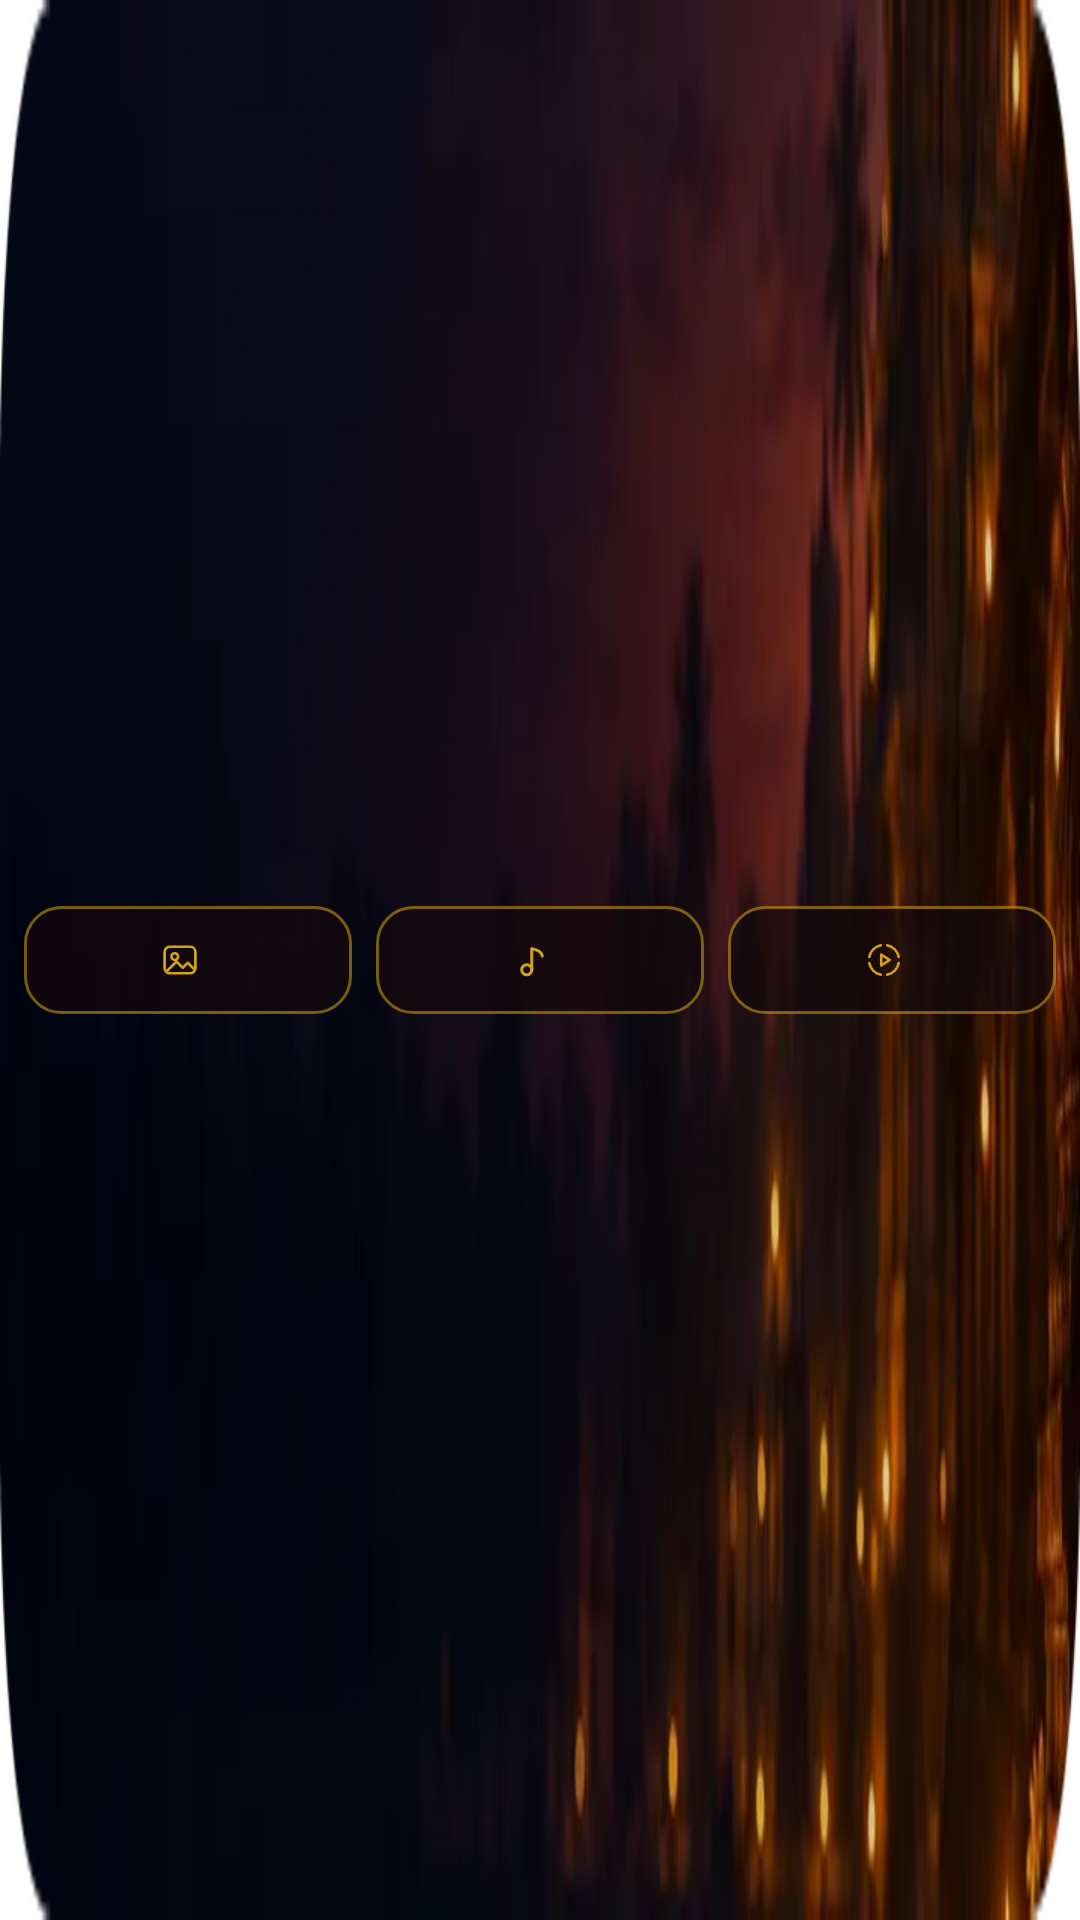

Icon click points for this 1080px×1920px phone screenshot, format (x=x, y=y):
quick ringtones: (x=532, y=962)
quick status: (x=886, y=960)
quick wallpapers: (x=180, y=960)
